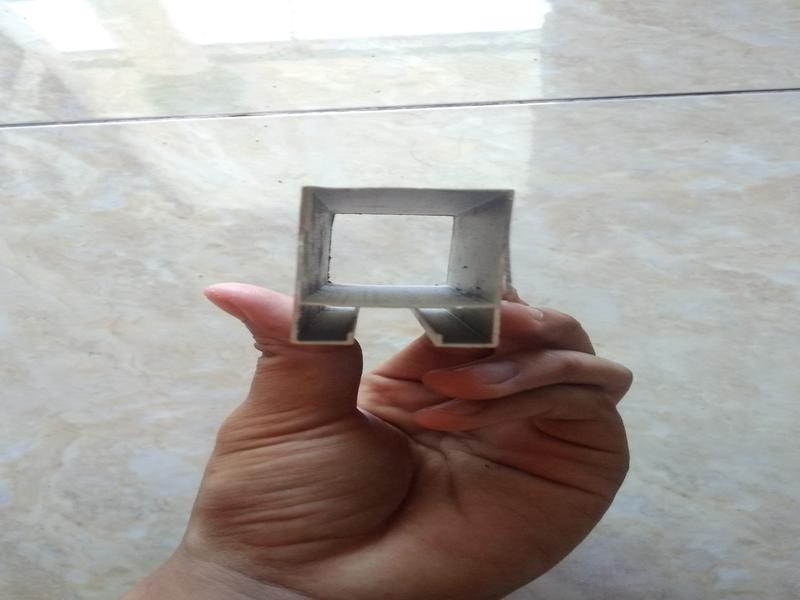Aluminium_1: (286, 161, 525, 369)
